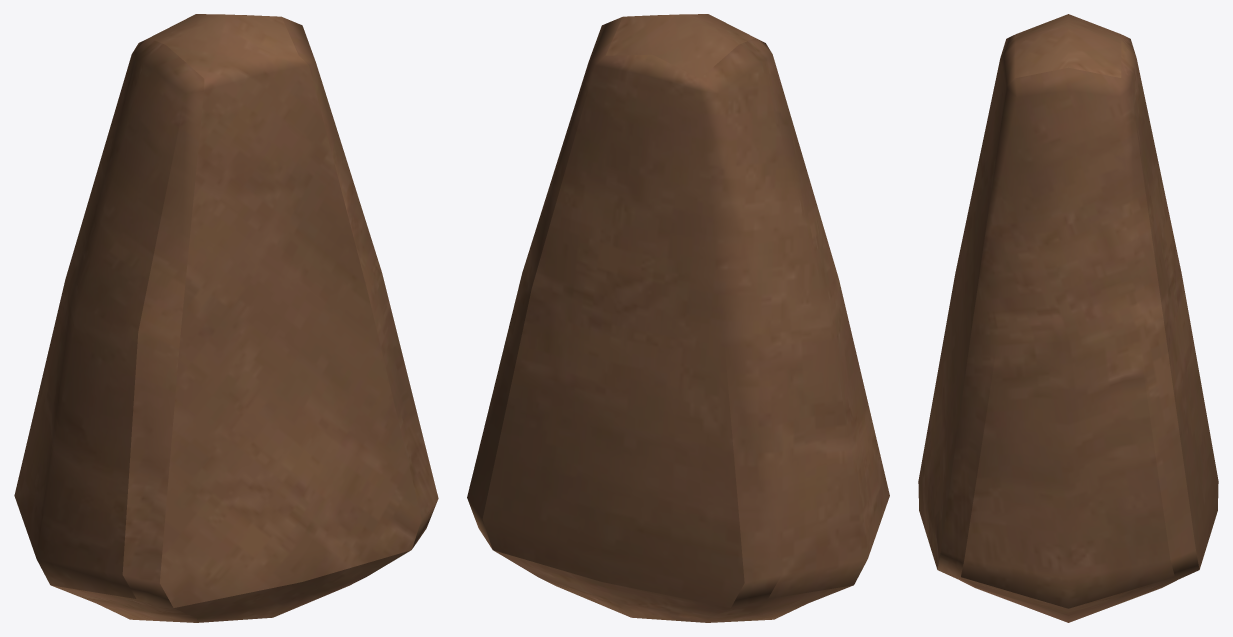
The model's file is stone03.glb.
3 views of the same model, side by side, from view 1: azimuth 30°, elevation 25°; view 2: azimuth 150°, elevation 25°; view 3: azimuth 270°, elevation 25° (orthographic). The views are drawn at different scales.
Visible parts, largest first — view 1: Stone03; view 2: Stone03; view 3: Stone03.
Part boxes in pixels (box(x1,y1,x2,y2)): Stone03: box(14, 14, 438, 622); Stone03: box(467, 14, 889, 622); Stone03: box(918, 14, 1218, 622).
Bounding box in the file's own units: 1.33 × 2.04 × 0.9686.
1 material, 1 textured.
